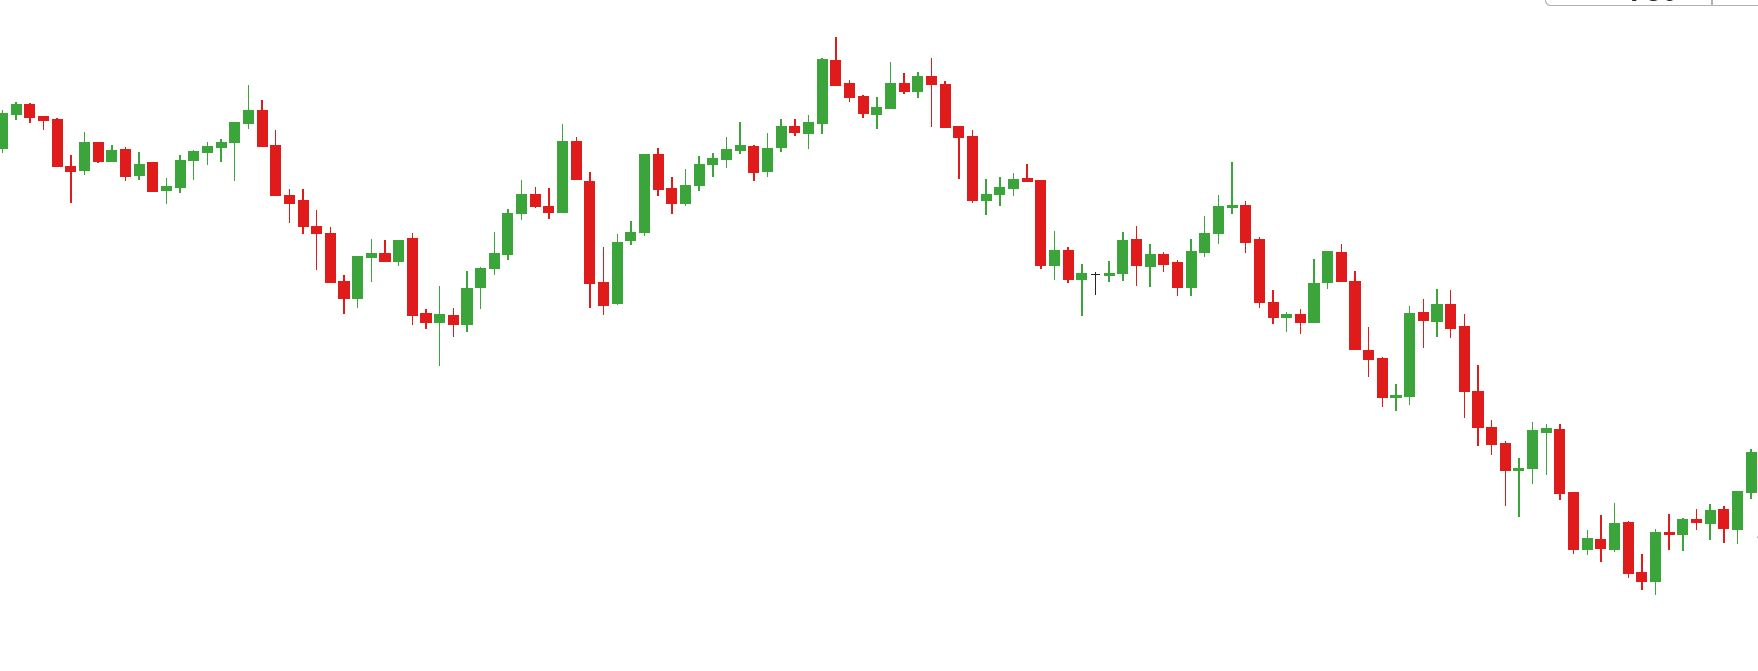sell: (1114, 160, 1249, 277)
